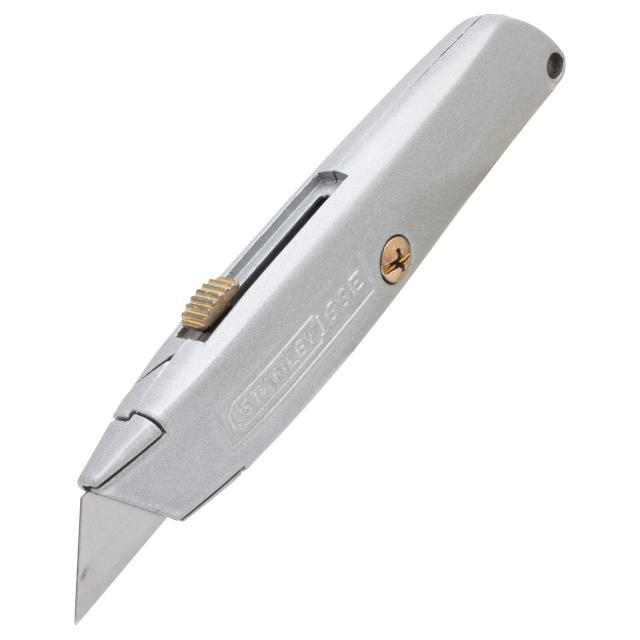estilete: (74, 15, 565, 624)
